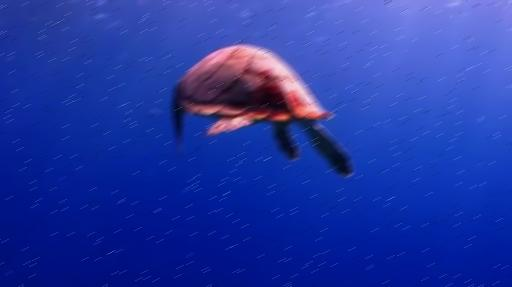Fish: (172, 46, 351, 175)
